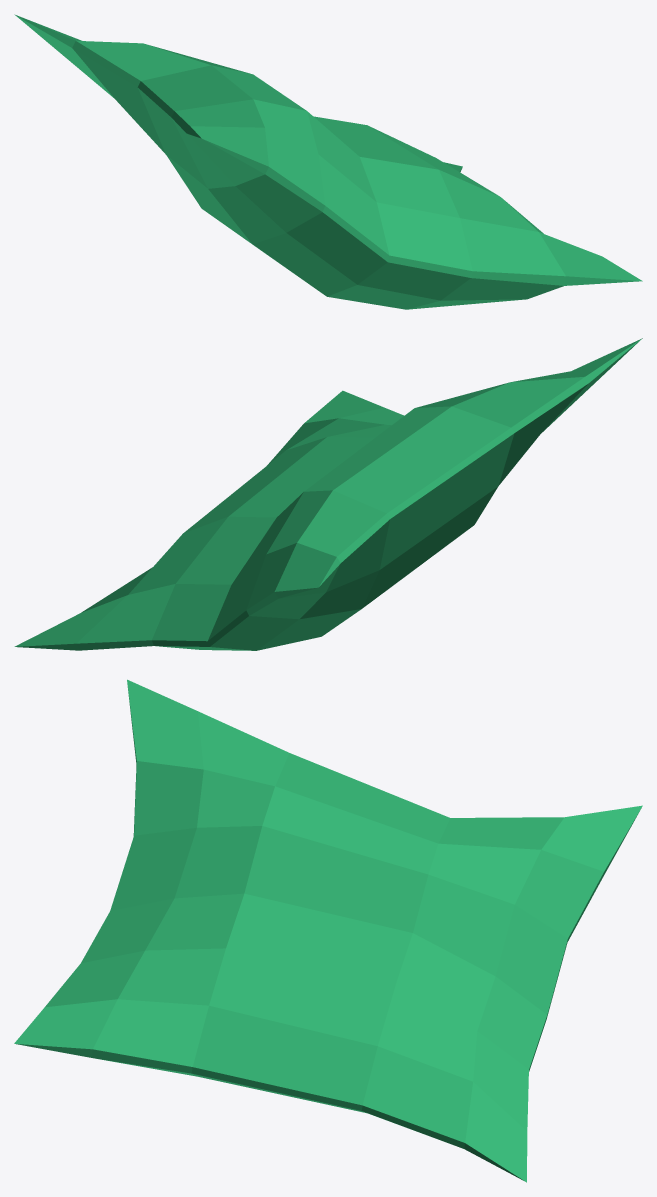
File: Livingroom2_Pillow_2.fbx
3 views of the same model, one above another, from view 1: azimuth 30°, elevation 25°; view 2: azimuth 150°, elevation 25°; view 3: azimuth 270°, elevation 25° (orthographic). The views are drawn at different scales.
Visible parts, largest first — view 1: Livingroom2_Pillow_2; view 2: Livingroom2_Pillow_2; view 3: Livingroom2_Pillow_2.
Boxes of the visible parts, x1,y1,x2,y2 form: Livingroom2_Pillow_2: (14, 14, 642, 309); Livingroom2_Pillow_2: (14, 338, 642, 650); Livingroom2_Pillow_2: (14, 679, 642, 1182).
Size of the model in its own units: 62.41 by 37.47 by 75.42.
